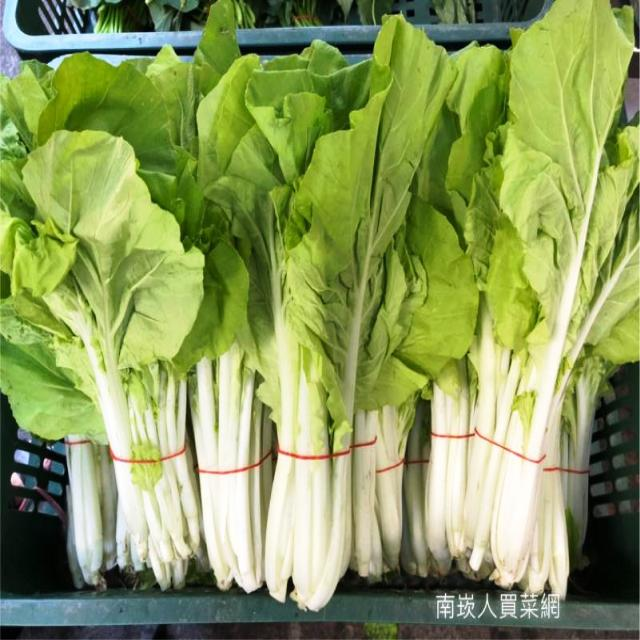chinese_cabbage: (21, 44, 615, 589)
